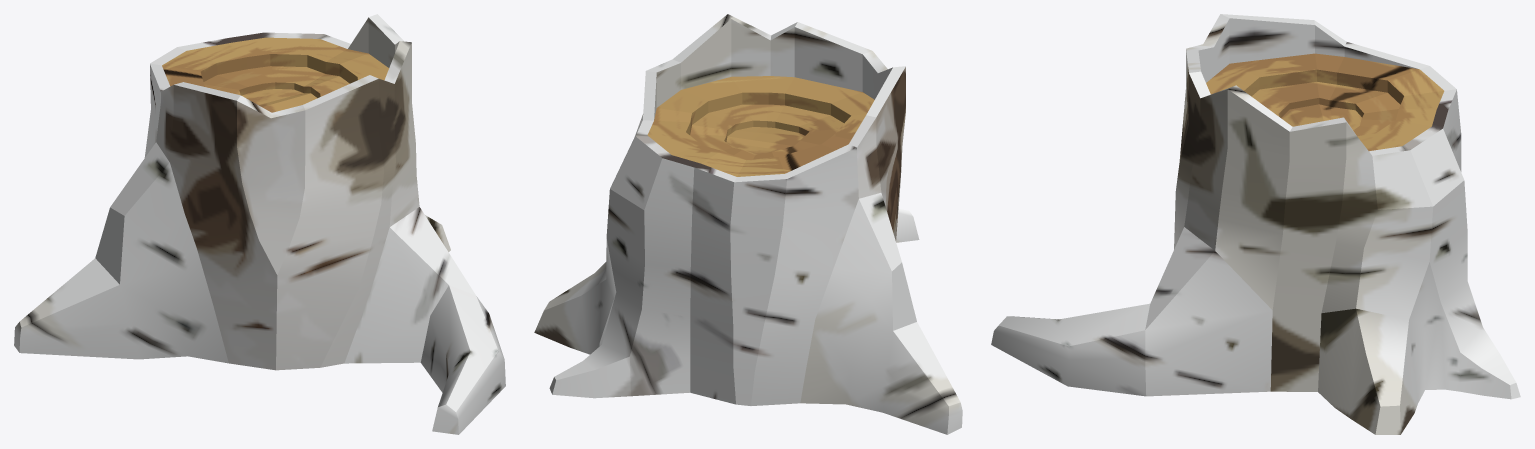
Rendered from Birch Stump.obj.
3 renders of one model, left to right at view 1: azimuth 30°, elevation 25°; view 2: azimuth 150°, elevation 25°; view 3: azimuth 270°, elevation 25°, orthographic. The views are drawn at different scales.
Visible parts, largest first — view 1: polySurface1; view 2: polySurface1; view 3: polySurface1.
Part boxes in pixels (x1=…): polySurface1: x1=14, y1=14, x2=505, y2=434; polySurface1: x1=534, y1=14, x2=962, y2=434; polySurface1: x1=991, y1=14, x2=1520, y2=434.
Size of the model in its own units: 65.28 by 42.31 by 69.56.
